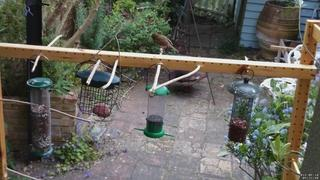robin: (150, 33, 179, 52)
